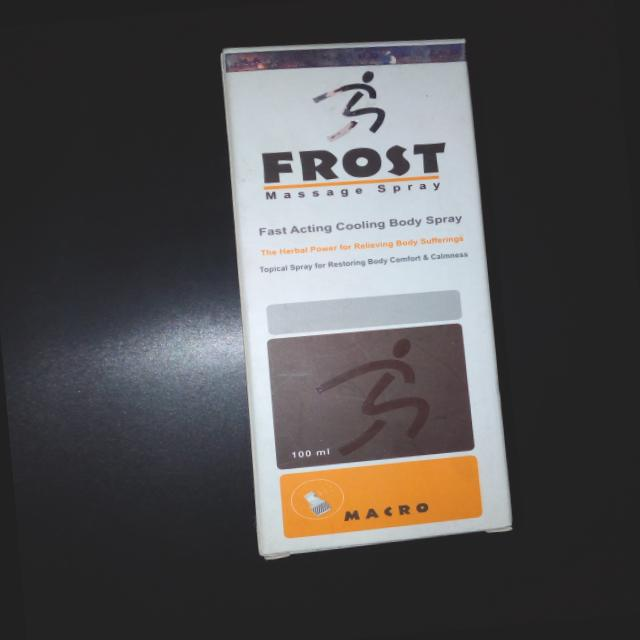medicine_packaging: (176, 11, 562, 582)
